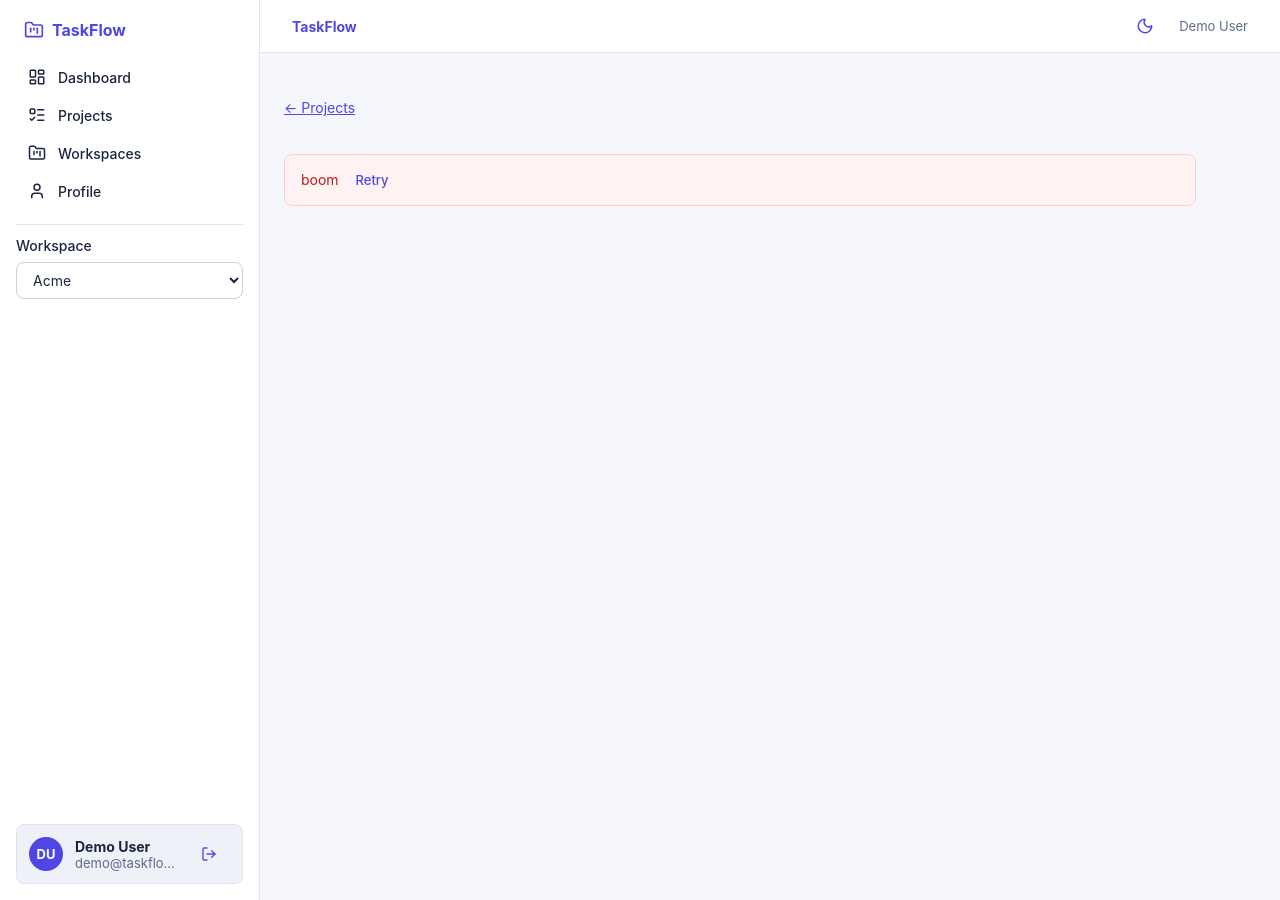
Test case: Task detail — "Loading and error states are handled" › shows an error alert with retry when the task fails to load
Expected: the message shows "boom", [301,171,339,188]
Click the button "Retry": point(372, 180) [343,167,402,193]
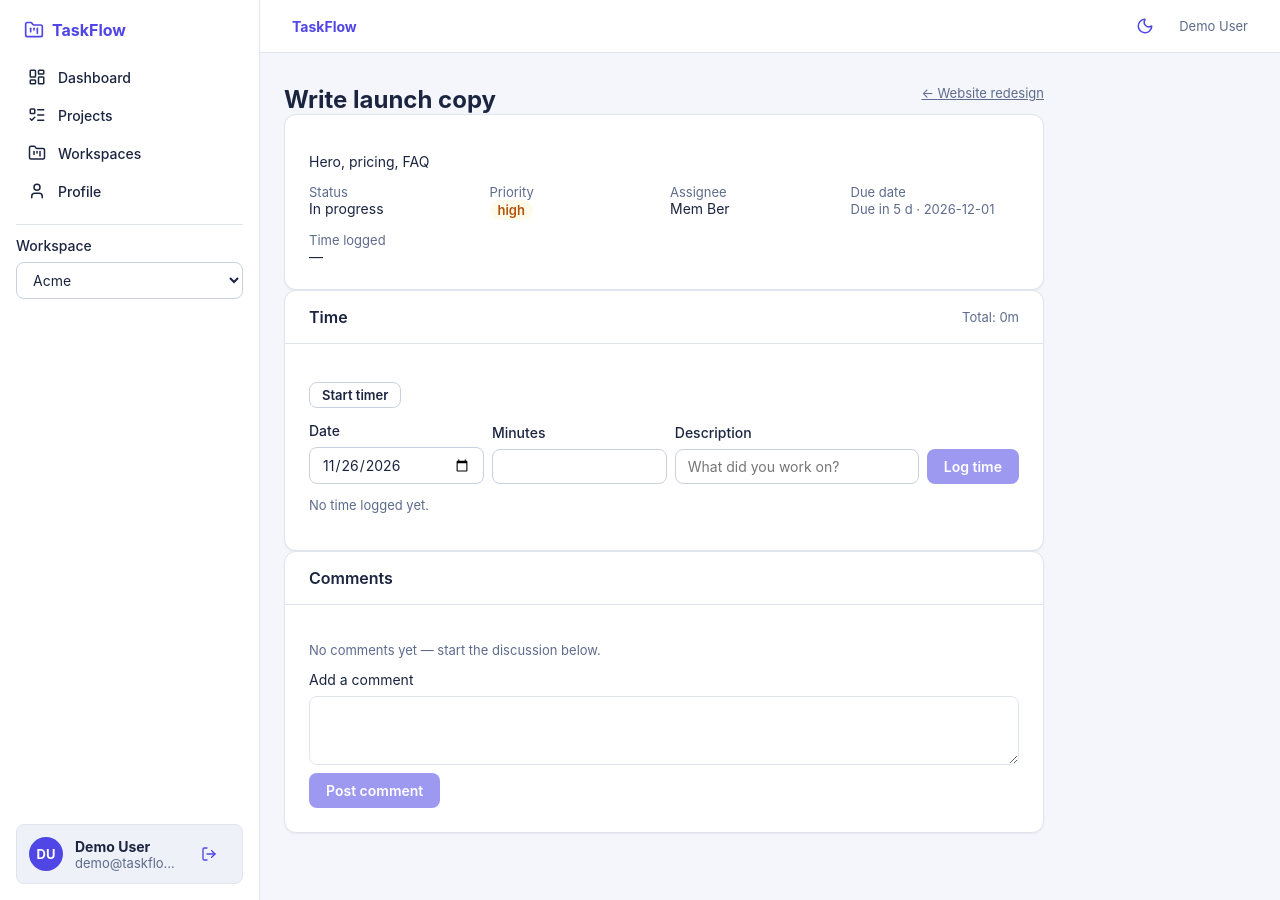
Now the heading "Write launch copy" is shown, box [284,85,496,114]
